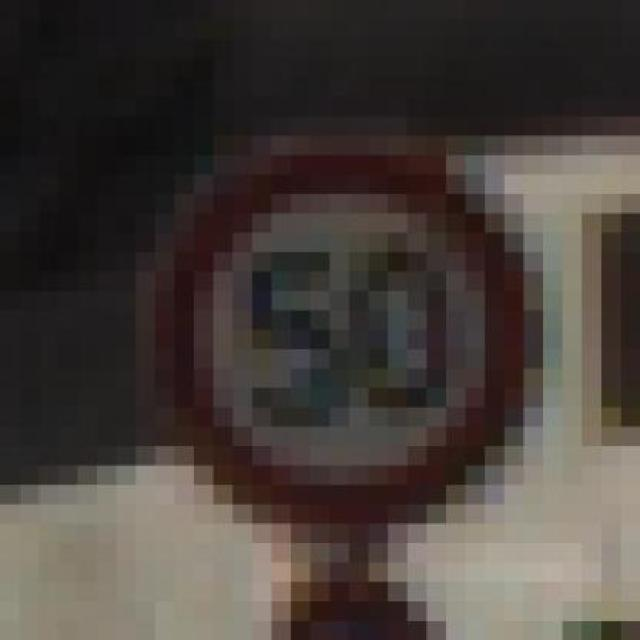50 mph speed limit: (116, 96, 562, 524)
